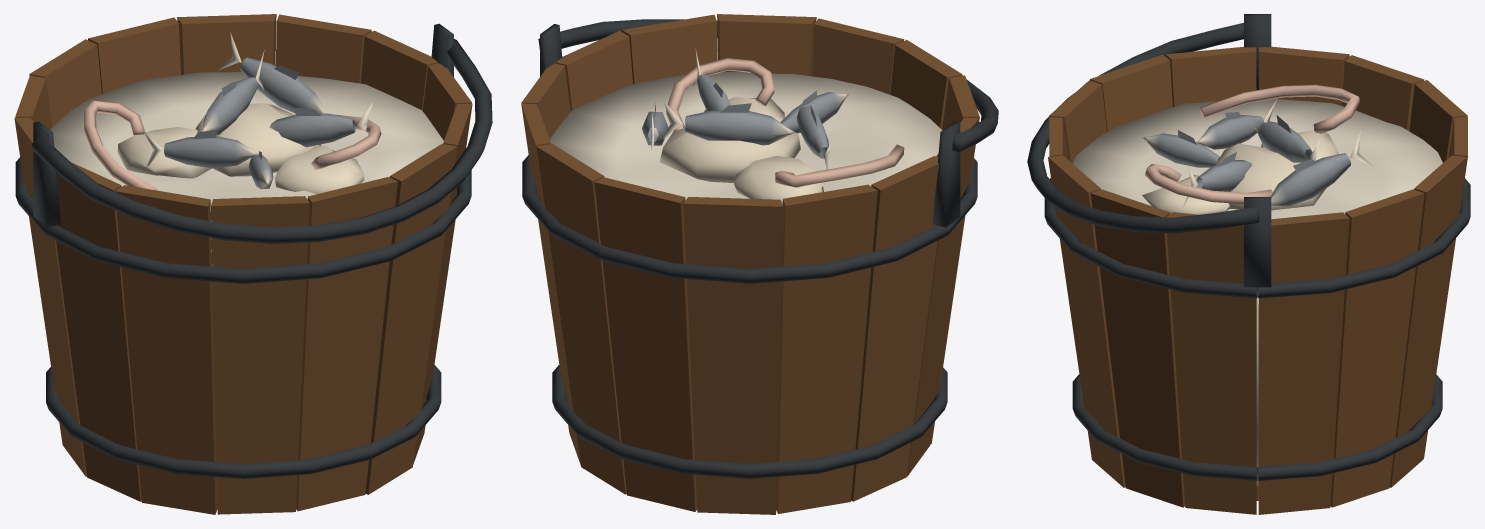
Rendered from bait_bucket.glb.
The picture shows the model from 3 angles, left to right: view 1: azimuth 30°, elevation 25°; view 2: azimuth 150°, elevation 25°; view 3: azimuth 270°, elevation 25°; orthographic projection. The views are drawn at different scales.
Visible parts, largest first — view 1: BucketStaves, BucketIron, BaitMound, BaitFill; view 2: BucketStaves, BaitFill, BucketIron, BaitMound; view 3: BucketStaves, BucketIron, BaitFill, BaitMound.
Boxes of the visible parts, bbox=[...] form: BucketStaves: bbox=[14, 14, 472, 514]; BucketIron: bbox=[15, 23, 492, 478]; BaitMound: bbox=[83, 32, 381, 193]; BaitFill: bbox=[50, 72, 443, 266]; BucketStaves: bbox=[521, 14, 979, 514]; BaitFill: bbox=[549, 72, 942, 200]; BucketIron: bbox=[522, 19, 998, 478]; BaitMound: bbox=[642, 49, 904, 204]; BucketStaves: bbox=[1048, 46, 1467, 514]; BucketIron: bbox=[1027, 14, 1470, 480]; BaitFill: bbox=[1072, 99, 1442, 484]; BaitMound: bbox=[1142, 84, 1373, 214].
Bounding box in the file's own units: 0.4061 × 0.329 × 0.3926.
